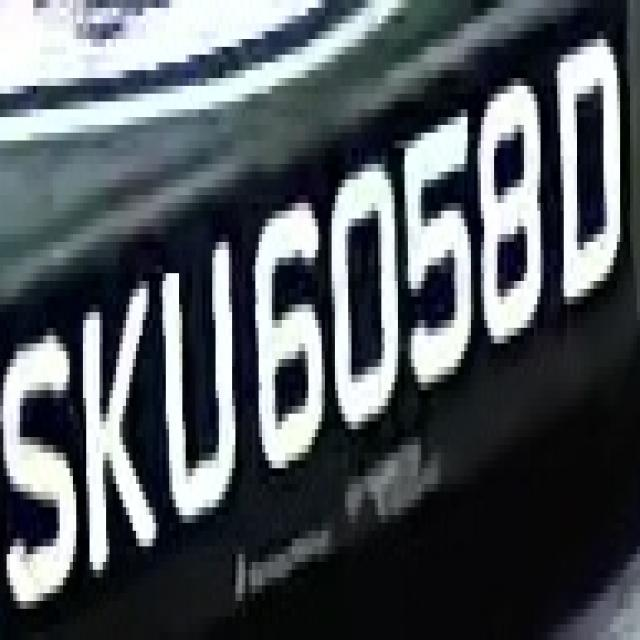0: (318, 148, 404, 460)
5: (398, 110, 477, 422)
6: (245, 172, 328, 476)
8: (474, 62, 554, 359)
D: (554, 39, 630, 304)
K: (70, 258, 156, 586)
S: (7, 296, 76, 608)
U: (166, 218, 252, 530)
